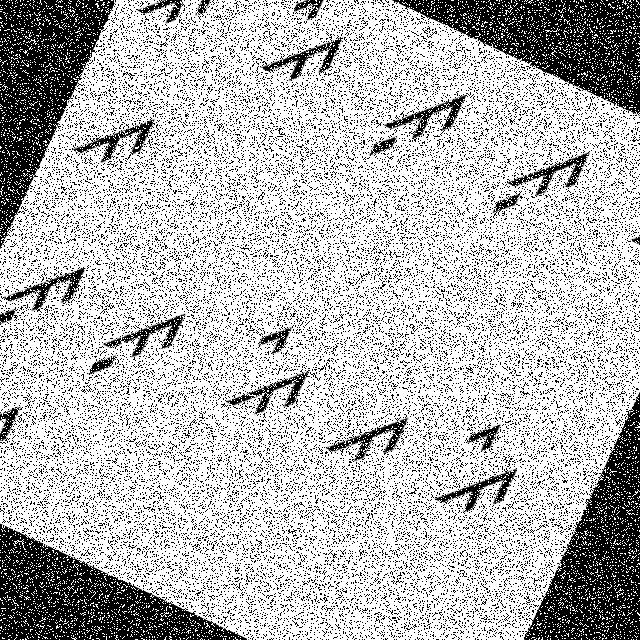ka: (316, 382, 422, 492), (62, 86, 162, 186), (0, 371, 31, 477), (610, 174, 639, 287)
ki: (412, 390, 544, 538), (215, 308, 332, 441), (249, 0, 366, 104), (127, 0, 242, 47)
ku: (472, 104, 602, 256), (354, 57, 475, 191), (74, 278, 194, 412), (0, 229, 97, 363)
